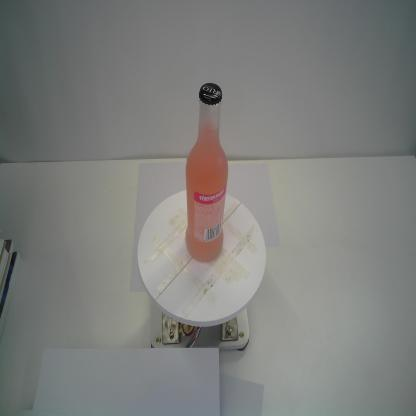Alcohol: (185, 81, 229, 264)
